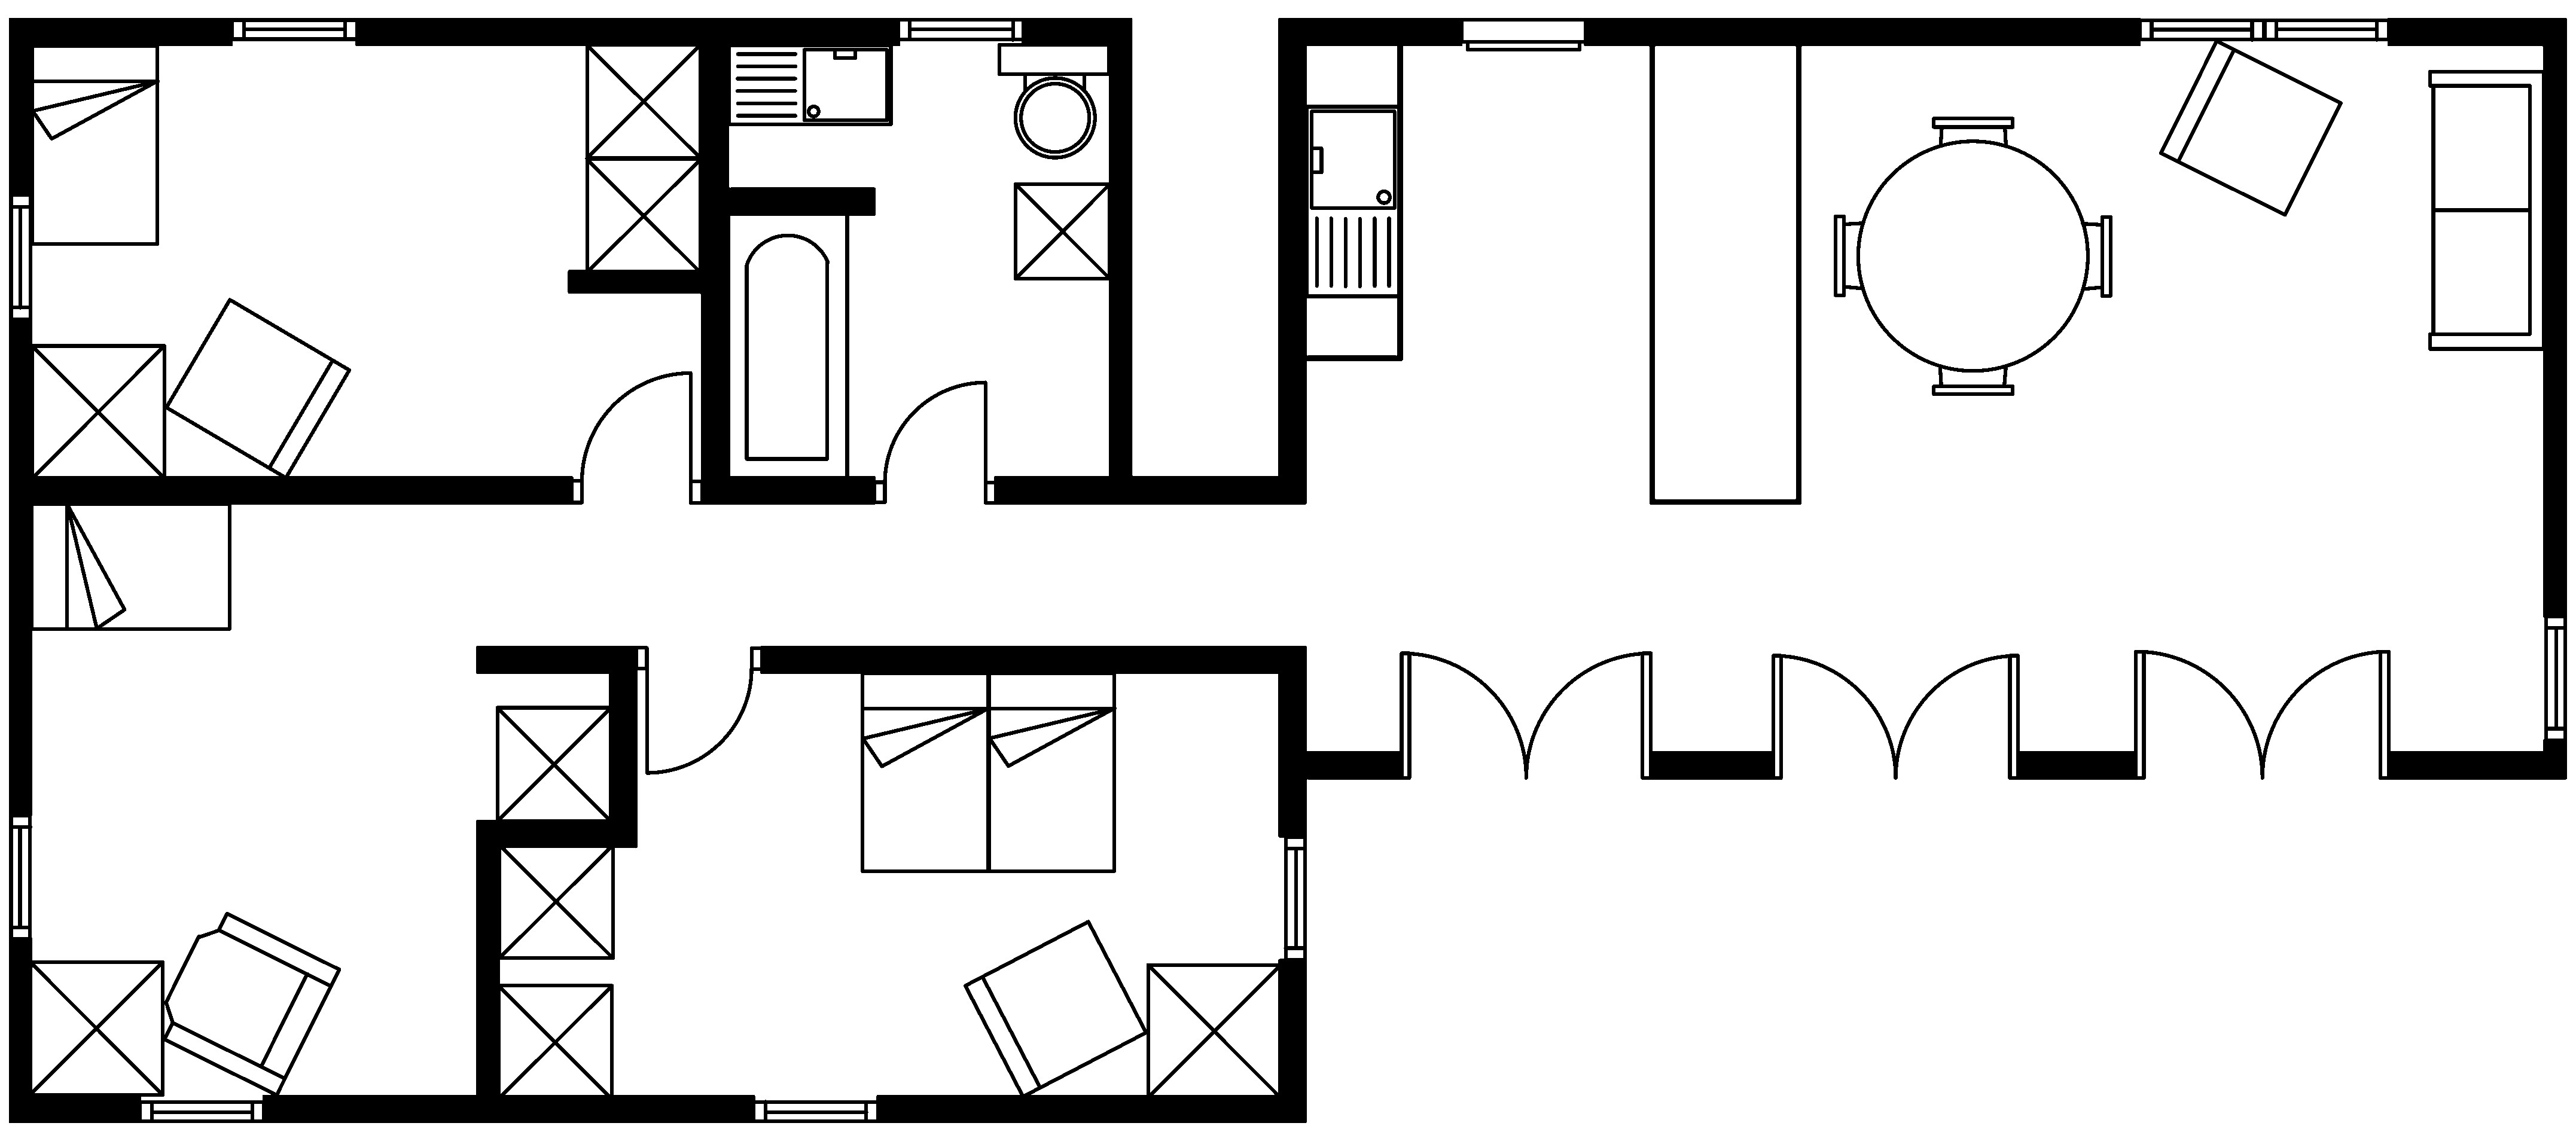armchair: (161, 910, 342, 1097)
bed: (859, 670, 991, 872), (986, 670, 1117, 872), (28, 501, 232, 631), (30, 43, 159, 246)
coffee_table: (26, 959, 164, 1097), (1145, 963, 1283, 1099), (30, 343, 166, 480), (583, 41, 702, 161), (494, 982, 614, 1101), (494, 705, 613, 823), (496, 841, 614, 959), (585, 156, 702, 274), (1012, 181, 1112, 281)
large_sink: (997, 41, 1111, 158)
large_sofa: (2426, 69, 2545, 350)
round_table: (1832, 115, 2113, 396)
sink: (1304, 104, 1401, 297), (726, 43, 894, 127)
small_sofa: (163, 297, 352, 480), (963, 918, 1148, 1099), (2159, 38, 2343, 217)
tub: (726, 210, 849, 483)
